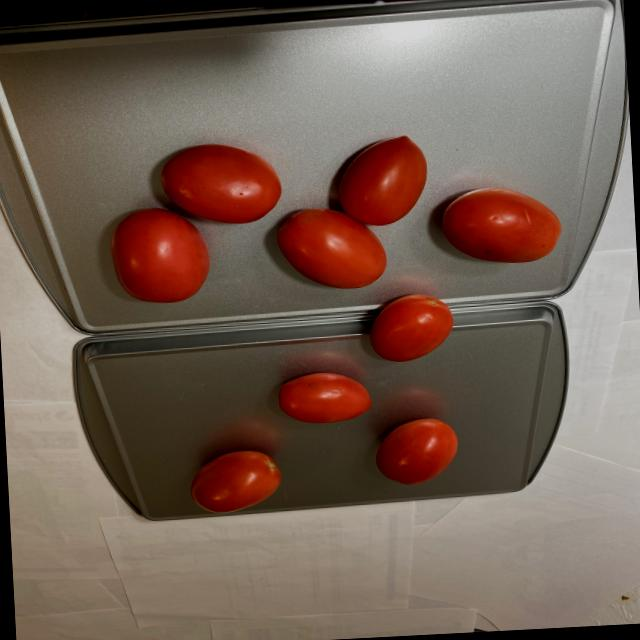tomato: (100, 121, 572, 380), (186, 366, 464, 514)
